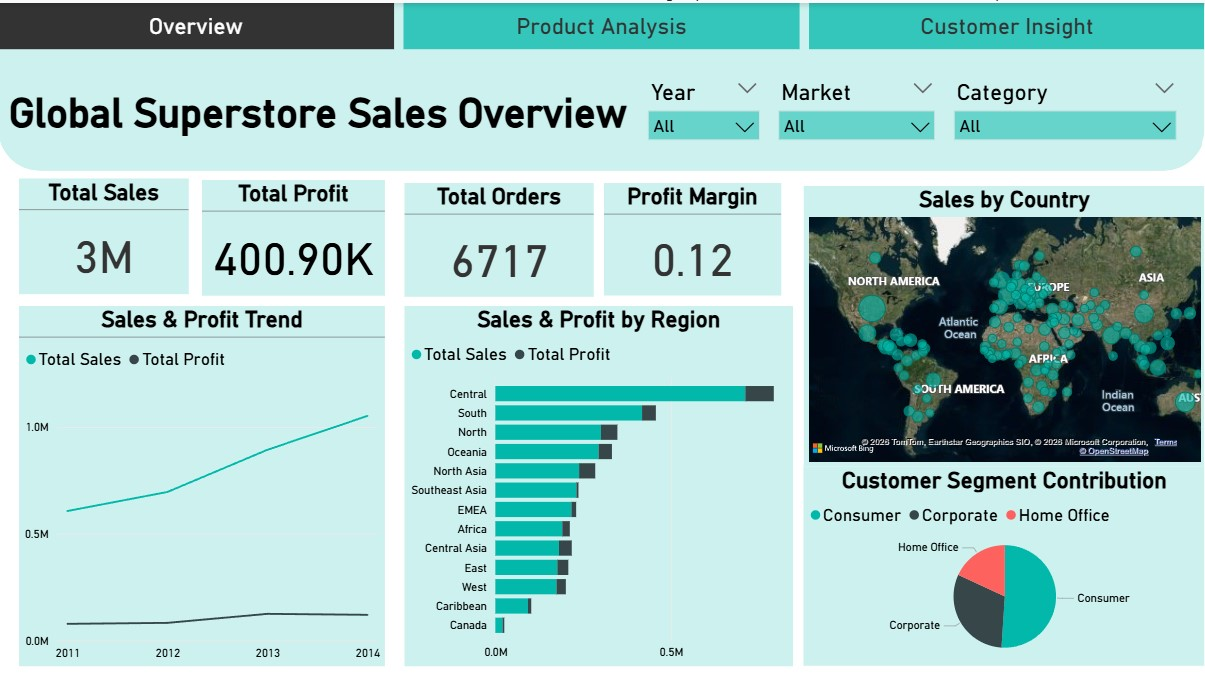

The dashboard page shown, as its layout file describes it:
{"tool":"powerbi","page":{"name":"Overview","canvas":[1280,720],"ordinal":0},"visuals":[{"type":"shape","box":[0,0,1280.4,178.1],"z":0},{"type":"card","title":"Total Sales","fields":{"Values":["SuperStoreOrders - SuperStoreOrders.Total Sales"]},"box":[22.3,186.1,179.7,122.5],"z":1000},{"type":"card","title":"Total Profit","fields":{"Values":["SuperStoreOrders - SuperStoreOrders.Total Profit"]},"box":[216.3,187.7,194.1,122.5],"z":2000},{"type":"card","title":"Total Orders","fields":{"Values":["SuperStoreOrders - SuperStoreOrders.Total Orders"]},"box":[431.1,190.9,200.4,120.9],"z":3000},{"type":"card","title":"Profit Margin","fields":{"Values":["SuperStoreOrders - SuperStoreOrders.Profit Margin"]},"box":[642.6,190.9,187.7,119.3],"z":4000},{"type":"lineChart","title":"Sales & Profit Trend","fields":{"Category":["SuperStoreOrders - SuperStoreOrders.year"],"Y":["SuperStoreOrders - SuperStoreOrders.Total Sales","SuperStoreOrders - SuperStoreOrders.Total Profit"]},"box":[22.3,321.3,388.1,381.7],"z":5000},{"type":"map","title":"Sales by Country","fields":{"Category":["SuperStoreOrders - SuperStoreOrders.country"],"Size":["SuperStoreOrders - SuperStoreOrders.Total Sales"]},"box":[854.2,194.1,426.3,297.4],"z":6000},{"type":"barChart","title":"Sales & Profit by Region","fields":{"Category":["SuperStoreOrders - SuperStoreOrders.region"],"Y":["SuperStoreOrders - SuperStoreOrders.Total Sales","SuperStoreOrders - SuperStoreOrders.Total Profit"]},"box":[431.1,321.3,412,381.7],"z":7000},{"type":"pieChart","title":"Customer Segment Contribution","fields":{"Category":["SuperStoreOrders - SuperStoreOrders.segment"],"Y":["SuperStoreOrders - SuperStoreOrders.Total Sales"]},"box":[854.2,491.5,426.3,211.6],"z":8000},{"type":"slicer","fields":{"Values":["SuperStoreOrders - SuperStoreOrders.year"]},"box":[679.2,74.8,138.4,103.4],"z":9000},{"type":"textbox","box":[0,85.9,679.2,65.2],"z":10000},{"type":"slicer","fields":{"Values":["SuperStoreOrders - SuperStoreOrders.market"]},"box":[817.6,74.8,186.1,151.1],"z":11000},{"type":"slicer","fields":{"Values":["SuperStoreOrders - SuperStoreOrders.category"]},"box":[1003.7,74.8,256.1,87.5],"z":12000},{"type":"pageNavigator","box":[0,0,1280.4,49.3],"z":13000}]}

Visuals, with their boxes in screenshot pixels (x1, y1, x2, y2), scaled from the page's 1280x720 canvas onto the 1205x680 screenshot:
shape: <box>0,0,1204,168</box>
"Total Sales" card: <box>21,176,190,291</box>
"Total Profit" card: <box>204,177,386,293</box>
"Total Orders" card: <box>406,180,594,294</box>
"Profit Margin" card: <box>605,180,782,293</box>
"Sales & Profit Trend" lineChart: <box>21,303,386,664</box>
"Sales by Country" map: <box>804,183,1204,464</box>
"Sales & Profit by Region" barChart: <box>406,303,794,664</box>
"Customer Segment Contribution" pieChart: <box>804,464,1204,664</box>
slicer - SuperStoreOrders - SuperStoreOrders.year: <box>639,71,770,168</box>
textbox: <box>0,81,639,143</box>
slicer - SuperStoreOrders - SuperStoreOrders.market: <box>770,71,945,213</box>
slicer - SuperStoreOrders - SuperStoreOrders.category: <box>945,71,1186,153</box>
pageNavigator: <box>0,0,1204,47</box>
